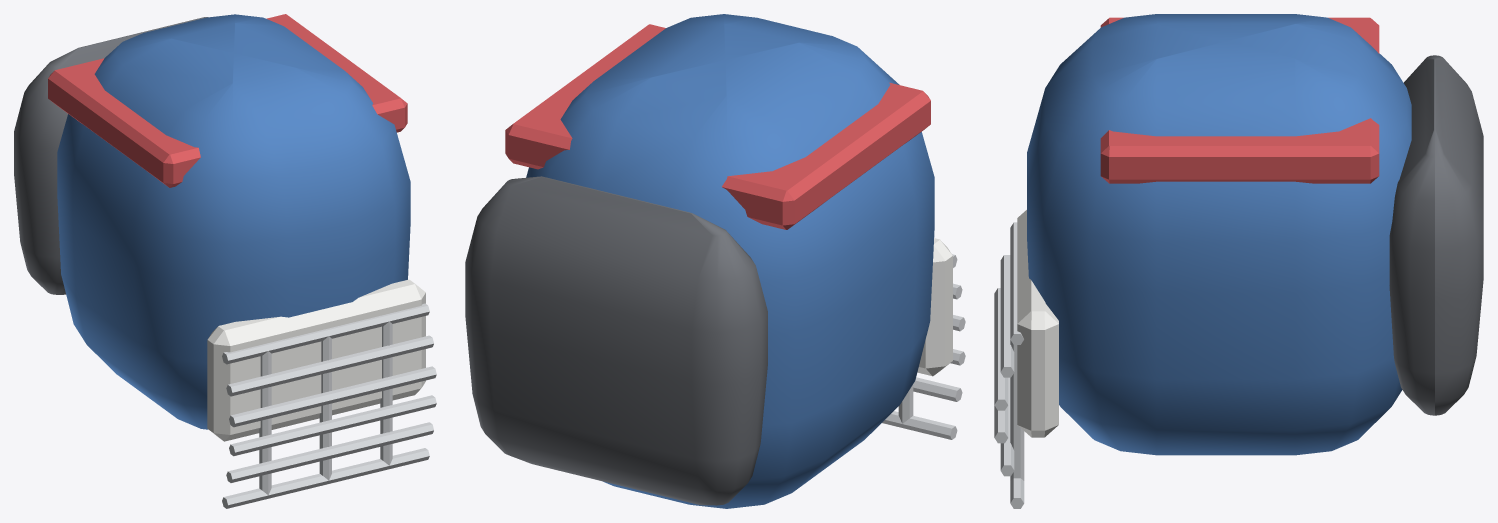
The model's file is ice-hockey-arena-and-locker-room-goalie-mask-f427f311__33720.glb.
The picture shows the model from 3 angles, left to right: view 1: azimuth 30°, elevation 25°; view 2: azimuth 150°, elevation 25°; view 3: azimuth 270°, elevation 25°; orthographic projection. The views are drawn at different scales.
Parts seen in each view (by area): view 1: goalie-mask; view 2: goalie-mask; view 3: goalie-mask.
Part boxes in pixels (x1,y1,x2,y2): goalie-mask: (14,14,436,508); goalie-mask: (465,14,965,508); goalie-mask: (994,14,1483,508).
Bounding box in the file's own units: 0.246 × 0.3263 × 0.3514.
